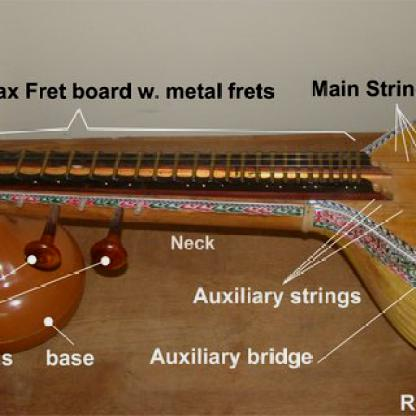Veena: (1, 124, 416, 242)
